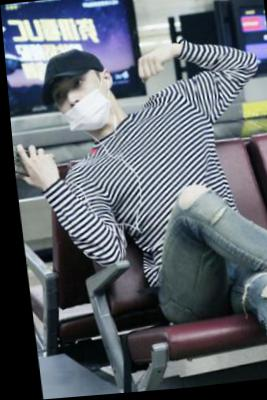WRONG: (50, 70, 108, 136)
